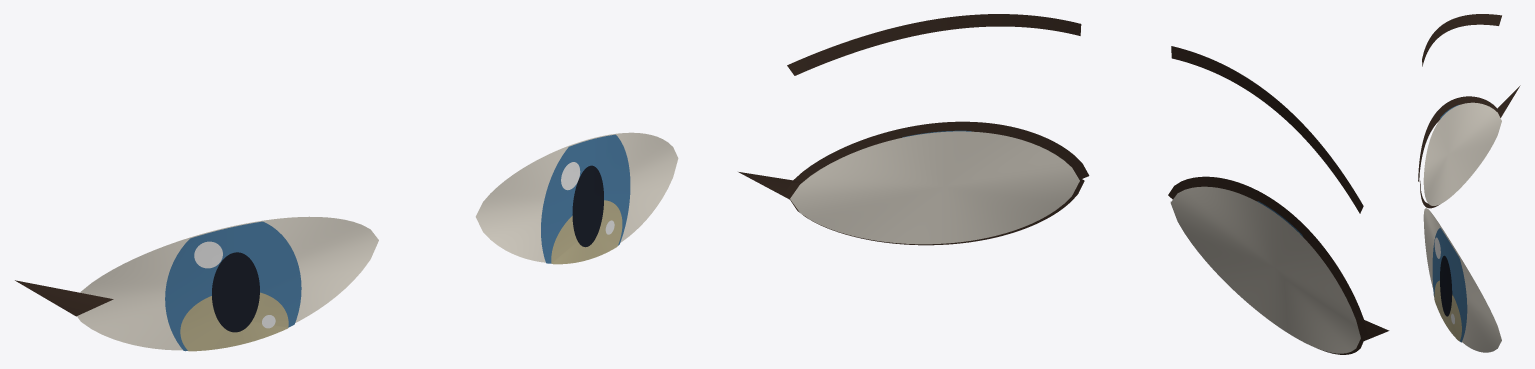
3 views of the same model, side by side, from view 1: azimuth 30°, elevation 25°; view 2: azimuth 150°, elevation 25°; view 3: azimuth 270°, elevation 25° (orthographic). The views are drawn at different scales.
Parts seen in each view (by area): view 1: Eye_White_-1, Eye_White_1, Eye_Iris_-1, Eye_Iris_1, Eye_Iris_Light_-1, Eye_Pupil_-1, Eye_Iris_Light_1, Eye_Pupil_1, Eye_LashWing_-1, Eye_Glint_-1_0; view 2: Eye_White_1, Eye_White_-1, Eyebrow_1, Eye_UpperLid_1, Eyebrow_-1, Eye_UpperLid_-1, Eye_LowerLid_1, Eye_LashWing_1; view 3: Eye_White_-1, Eye_White_1, Eye_Iris_1, Eyebrow_-1, Eye_UpperLid_-1, Eye_Iris_Light_1, Eye_Pupil_1, Eye_LashWing_-1, Eye_Glint_1_0.
Part boxes in pixels (x1=…): Eye_White_-1: x1=77, y1=216, x2=378, y2=350; Eye_White_1: x1=475, y1=132, x2=678, y2=262; Eye_Iris_-1: x1=165, y1=221, x2=301, y2=351; Eye_Iris_1: x1=541, y1=134, x2=630, y2=263; Eye_Iris_Light_-1: x1=180, y1=292, x2=288, y2=351; Eye_Pupil_-1: x1=212, y1=252, x2=259, y2=332; Eye_Iris_Light_1: x1=551, y1=200, x2=622, y2=264; Eye_Pupil_1: x1=572, y1=165, x2=603, y2=247; Eye_LashWing_-1: x1=15, y1=280, x2=113, y2=316; Eye_Glint_-1_0: x1=194, y1=241, x2=222, y2=268; Eye_White_1: x1=790, y1=131, x2=1079, y2=244; Eye_White_-1: x1=1170, y1=186, x2=1360, y2=353; Eyebrow_1: x1=787, y1=14, x2=1081, y2=75; Eye_UpperLid_1: x1=784, y1=121, x2=1089, y2=195; Eyebrow_-1: x1=1171, y1=46, x2=1363, y2=213; Eye_UpperLid_-1: x1=1168, y1=176, x2=1367, y2=335; Eye_LowerLid_1: x1=789, y1=178, x2=1084, y2=245; Eye_LashWing_1: x1=738, y1=172, x2=802, y2=199; Eye_White_-1: x1=1423, y1=102, x2=1501, y2=205; Eye_White_1: x1=1423, y1=208, x2=1501, y2=352; Eye_Iris_1: x1=1432, y1=228, x2=1467, y2=342; Eyebrow_-1: x1=1422, y1=14, x2=1501, y2=66; Eye_UpperLid_-1: x1=1418, y1=96, x2=1500, y2=181; Eye_Iris_Light_1: x1=1434, y1=280, x2=1461, y2=341; Eye_Pupil_1: x1=1440, y1=255, x2=1452, y2=316; Eye_LashWing_-1: x1=1495, y1=85, x2=1520, y2=117; Eye_Glint_1_0: x1=1434, y1=237, x2=1440, y2=258.
Size of the model in its own units: 0.418 by 0.1487 by 0.0725.
